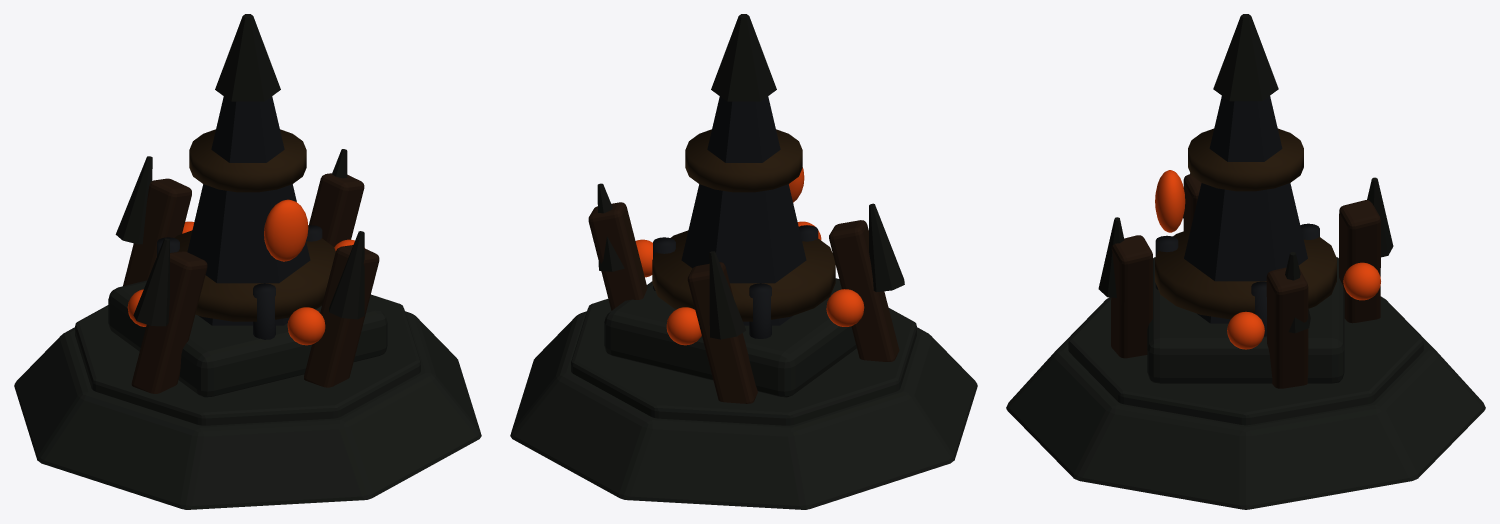
The model's file is TowerCorrupt3.obj.
3 views of the same model, side by side, from view 1: azimuth 30°, elevation 25°; view 2: azimuth 150°, elevation 25°; view 3: azimuth 270°, elevation 25° (orthographic).
Parts seen in each view (by area): view 1: weathered_stone_dais_lower_course, weathered_stone_dais_upper_course, dark_obelisk_core, blackstone_foot, oak_ritual_brace.002, bronze_binding_ring, bronze_upper_ring, oak_ritual_brace.003, apex_ward_crown, oak_ritual_brace.001, oak_ritual_brace, amber_runic_heart (+5 smaller); view 2: weathered_stone_dais_lower_course, weathered_stone_dais_upper_course, dark_obelisk_core, blackstone_foot, bronze_binding_ring, oak_ritual_brace.002, bronze_upper_ring, oak_ritual_brace.001, oak_ritual_brace, apex_ward_crown, bone_ward_spike.001, bone_ward_spike.002 (+4 smaller); view 3: weathered_stone_dais_lower_course, weathered_stone_dais_upper_course, dark_obelisk_core, blackstone_foot, bronze_binding_ring, oak_ritual_brace.003, oak_ritual_brace, bronze_upper_ring, oak_ritual_brace.001, apex_ward_crown, amber_runic_heart, bound_amber_pebble (+6 smaller).
Part boxes in pixels (box(x1,y1,x2,y2)): weathered_stone_dais_lower_course: box(14, 311, 481, 509); weathered_stone_dais_upper_course: box(75, 294, 420, 425); dark_obelisk_core: box(187, 96, 310, 325); blackstone_foot: box(108, 280, 387, 397); oak_ritual_brace.002: box(131, 251, 207, 393); bronze_binding_ring: box(175, 230, 335, 321); bronze_upper_ring: box(189, 129, 306, 192); oak_ritual_brace.003: box(304, 245, 379, 387); apex_ward_crown: box(215, 14, 280, 101); oak_ritual_brace.001: box(123, 178, 191, 285); oak_ritual_brace: box(309, 173, 364, 246); amber_runic_heart: box(264, 199, 308, 261); weathered_stone_dais_lower_course: box(510, 311, 977, 509); weathered_stone_dais_upper_course: box(571, 299, 916, 425); dark_obelisk_core: box(681, 96, 806, 325); blackstone_foot: box(604, 278, 856, 397); bronze_binding_ring: box(652, 230, 835, 321); oak_ritual_brace.002: box(829, 220, 899, 361); bronze_upper_ring: box(685, 129, 802, 192); oak_ritual_brace.001: box(687, 262, 757, 403); oak_ritual_brace: box(588, 202, 647, 310); apex_ward_crown: box(711, 14, 776, 101); bone_ward_spike.001: box(709, 251, 746, 339); bone_ward_spike.002: box(869, 203, 904, 292); weathered_stone_dais_lower_course: box(1006, 296, 1485, 509); weathered_stone_dais_upper_course: box(1068, 297, 1423, 425); dark_obelisk_core: box(1184, 96, 1307, 323); blackstone_foot: box(1147, 257, 1344, 383); bronze_binding_ring: box(1155, 229, 1336, 319); oak_ritual_brace.003: box(1111, 235, 1152, 358); oak_ritual_brace: box(1266, 267, 1308, 388); bronze_upper_ring: box(1188, 128, 1303, 191); oak_ritual_brace.001: box(1339, 200, 1380, 323); apex_ward_crown: box(1213, 14, 1278, 101); amber_runic_heart: box(1155, 170, 1185, 232); bound_amber_pebble: box(1227, 311, 1264, 349).
Size of the model in its own units: 1.9 by 1.72 by 1.9.
